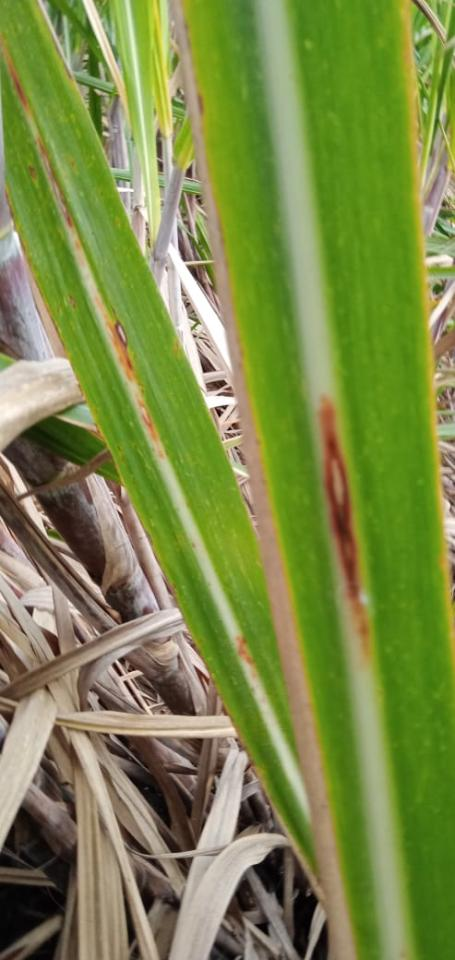RedRot: (320, 389, 374, 673), (36, 136, 74, 230), (94, 296, 135, 383), (136, 397, 165, 458), (9, 61, 32, 118), (236, 635, 256, 680), (74, 240, 80, 251)
Rust: (399, 0, 454, 660), (30, 165, 37, 182), (69, 294, 76, 308)
